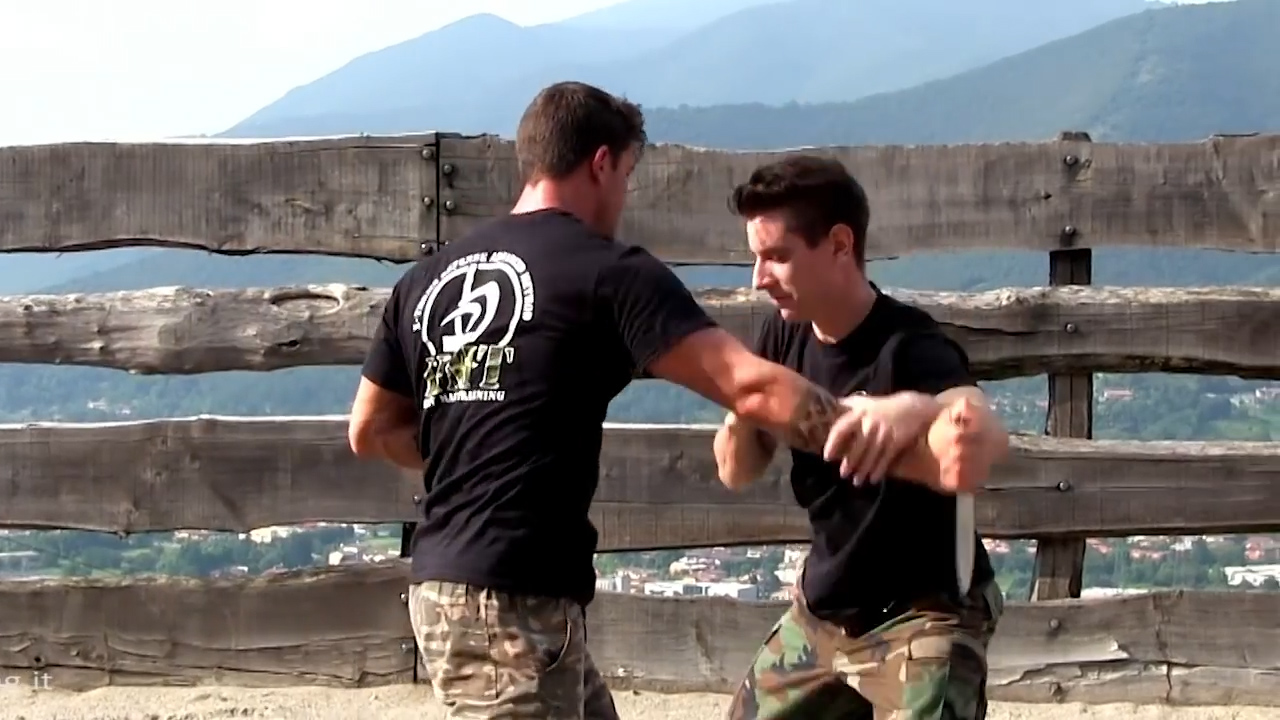knife: (940, 397, 994, 600)
